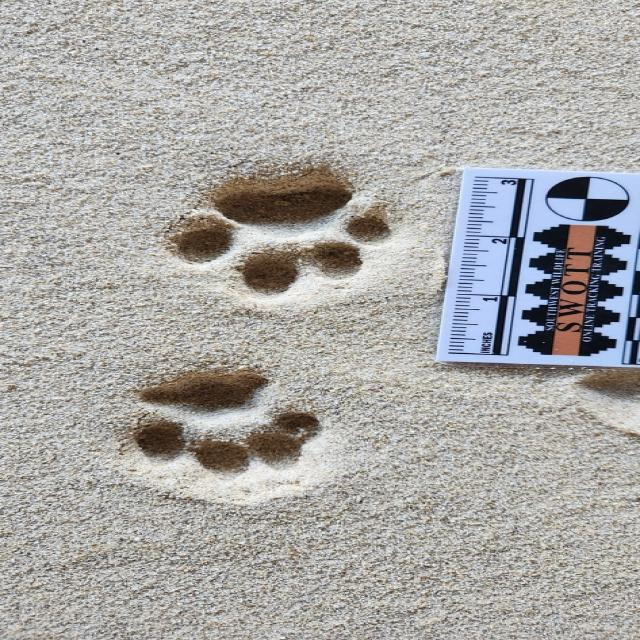felid: (173, 180, 390, 292), (130, 373, 325, 475)
